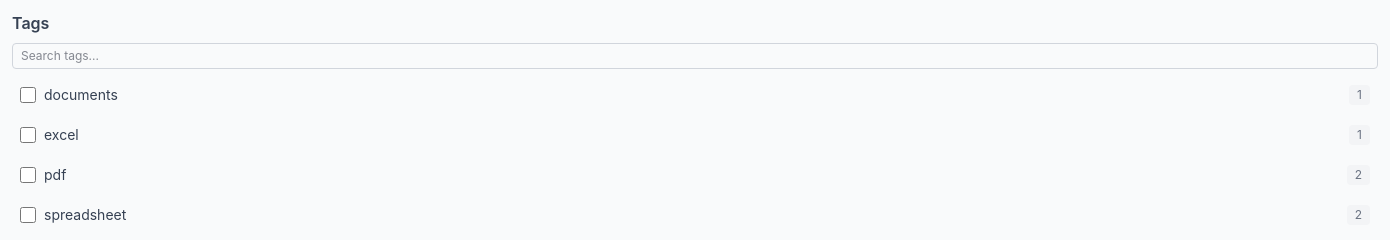
TagFilter › should show message when search has no results
The width and height of the screenshot is (1390, 240).
Type "nonexistent" into the field with placeholder "Search tags..." at (695, 56), box [12,43,1378,69]
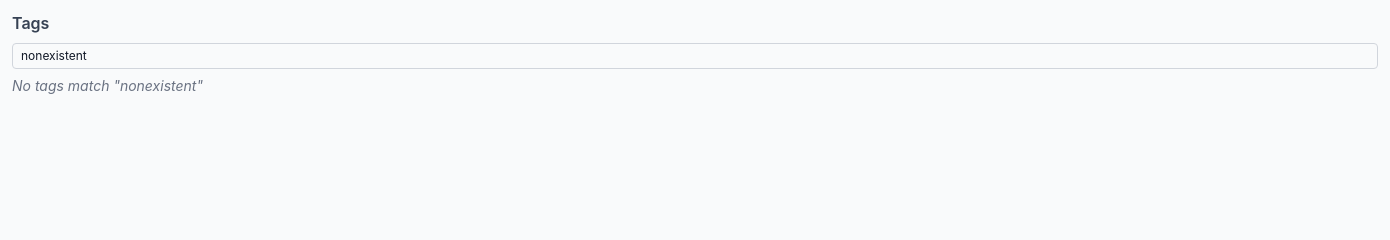
Expected: the text "No tags match \"nonexistent\"" is shown, [12,77,203,94]
